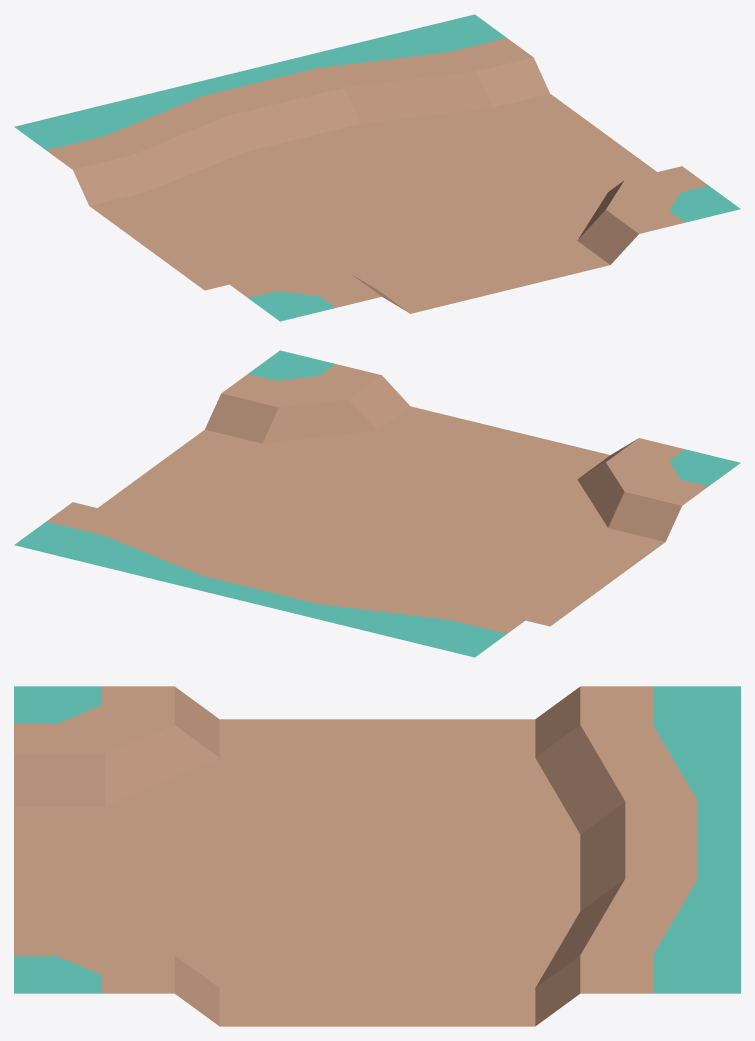
Rendered from ground_pathSplit.glb.
3 views of the same model, one above another, from view 1: azimuth 30°, elevation 25°; view 2: azimuth 150°, elevation 25°; view 3: azimuth 270°, elevation 25° (orthographic). The views are drawn at different scales.
Parts seen in each view (by area): view 1: ground_pathSplit; view 2: ground_pathSplit; view 3: ground_pathSplit.
Part boxes in pixels (x1,y1,x2,y2): ground_pathSplit: (14, 14, 740, 321); ground_pathSplit: (14, 350, 740, 657); ground_pathSplit: (14, 686, 740, 1026).
Bounding box in the file's own units: 1 × 0.05 × 1.
